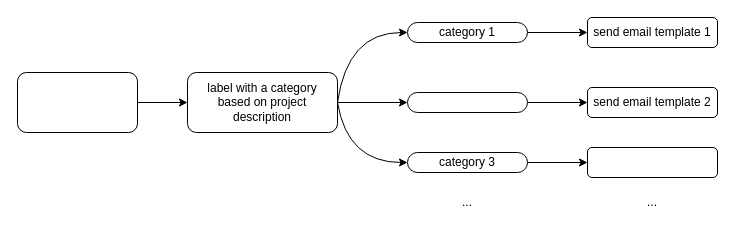
The diagram is 735 pixels wide and 230 high, and some of its shapes have lost their labels. Each missing label, with the centre of its shape:
category 2: the point at 467,102
New lead in CRM: the point at 77,102
send email template 3: the point at 652,162
